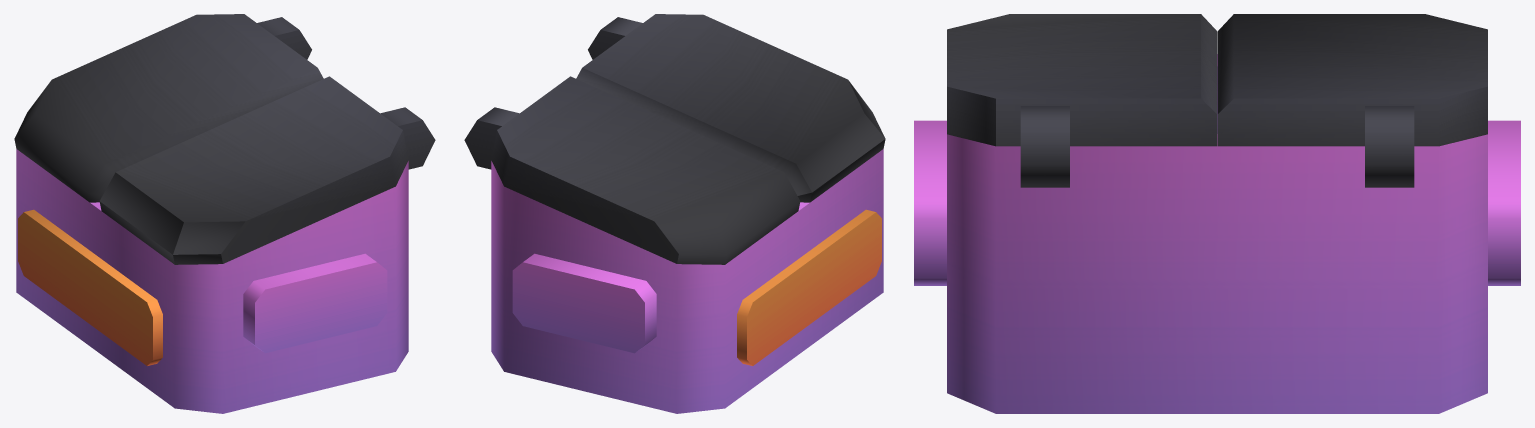
Rendered from obs_barrel.glb.
The picture shows the model from 3 angles, left to right: view 1: azimuth 30°, elevation 25°; view 2: azimuth 150°, elevation 25°; view 3: azimuth 270°, elevation 25°; orthographic projection. The views are drawn at different scales.
Visible parts, largest first — view 1: obs_barrel; view 2: obs_barrel; view 3: obs_barrel.
Boxes of the visible parts, x1,y1,x2,y2 form: obs_barrel: [14, 14, 435, 413]; obs_barrel: [464, 14, 885, 413]; obs_barrel: [914, 14, 1520, 413].
Bounding box in the file's own units: 1.93 × 1.47 × 2.6.
Materials: 1 (1 with a texture image).
